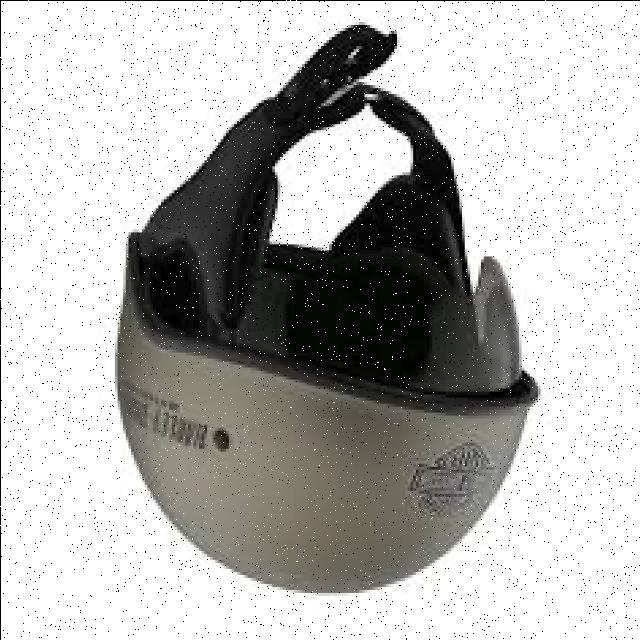Helmet: (116, 250, 536, 592)
